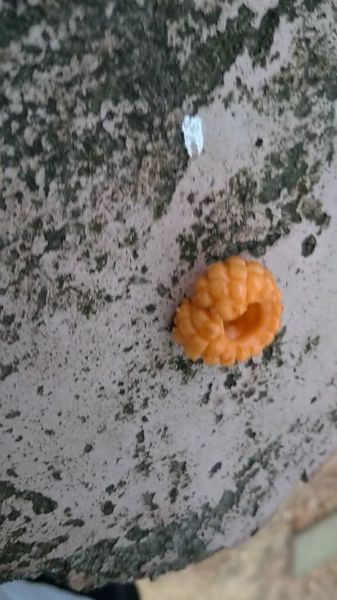eggs: (164, 249, 287, 370)
